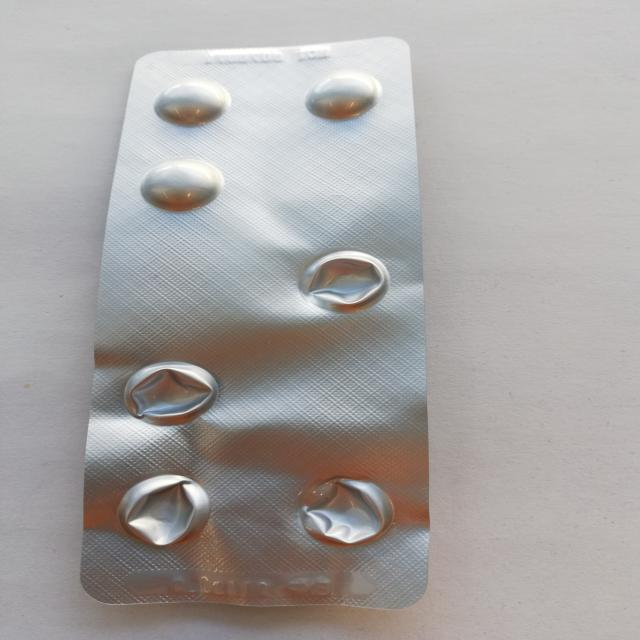Empty: (113, 354, 224, 428), (290, 473, 398, 549), (114, 472, 215, 552), (295, 248, 396, 314)
Pill: (134, 156, 225, 213), (300, 68, 383, 124), (149, 77, 233, 129)
